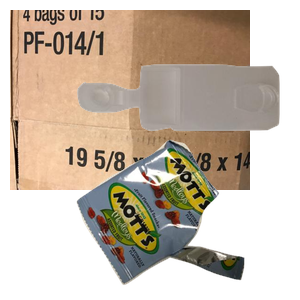cardboard: (10, 10, 250, 190)
glass: (102, 181, 246, 300)
plastic: (75, 62, 300, 186)
trash: (74, 137, 300, 300)
